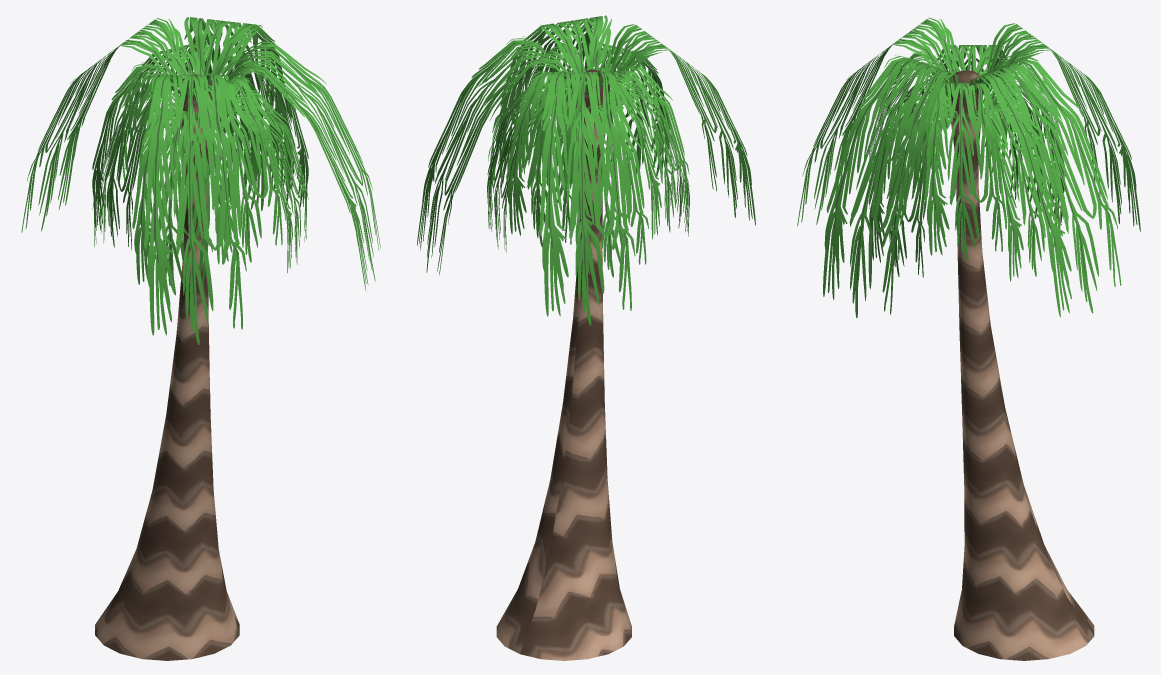
Rendered from Tree1Model.fbx.
The picture shows the model from 3 angles, left to right: view 1: azimuth 30°, elevation 25°; view 2: azimuth 150°, elevation 25°; view 3: azimuth 270°, elevation 25°; orthographic projection. The views are drawn at different scales.
Visible parts, largest first — view 1: Tree_Straight, Plane028, Plane027, Plane024, Plane025, Plane021, Plane032, Plane026, Plane031, Plane023, Plane022, Plane030 (+1 smaller); view 2: Tree_Straight, Plane025, Plane026, Plane022, Plane028, Plane021, Plane029, Plane027, Plane030, Plane024, Plane023, Plane032 (+1 smaller); view 3: Tree_Straight, Plane027, Plane026, Plane023, Plane028, Plane025, Plane030, Plane031, Plane021, Plane029, Plane024, Plane022 (+1 smaller).
Boxes of the visible parts, left/top/right/bottom form: Tree_Straight: left=95, top=74, right=239, bottom=660; Plane028: left=144, top=74, right=246, bottom=344; Plane027: left=226, top=41, right=380, bottom=291; Plane024: left=193, top=77, right=285, bottom=264; Plane025: left=21, top=18, right=185, bottom=232; Plane021: left=92, top=62, right=177, bottom=250; Plane032: left=132, top=108, right=212, bottom=295; Plane026: left=184, top=17, right=291, bottom=194; Plane031: left=219, top=89, right=308, bottom=272; Plane023: left=214, top=47, right=308, bottom=210; Plane022: left=118, top=40, right=211, bottom=186; Plane030: left=188, top=71, right=268, bottom=211; Tree_Straight: left=496, top=69, right=631, bottom=660; Plane025: left=539, top=72, right=635, bottom=325; Plane026: left=417, top=36, right=564, bottom=274; Plane022: left=506, top=71, right=587, bottom=246; Plane028: left=607, top=24, right=755, bottom=225; Plane021: left=596, top=63, right=689, bottom=239; Plane029: left=570, top=104, right=648, bottom=277; Plane027: left=492, top=15, right=611, bottom=187; Plane030: left=487, top=82, right=566, bottom=252; Plane024: left=589, top=42, right=669, bottom=177; Plane023: left=488, top=41, right=580, bottom=193; Plane032: left=608, top=76, right=689, bottom=236; Tree_Straight: left=951, top=70, right=1094, bottom=660; Plane027: left=823, top=54, right=958, bottom=317; Plane026: left=969, top=57, right=1121, bottom=317; Plane023: left=924, top=82, right=1005, bottom=261; Plane028: left=797, top=17, right=956, bottom=226; Plane025: left=985, top=23, right=1140, bottom=231; Plane030: left=966, top=99, right=1063, bottom=281; Plane031: left=868, top=94, right=958, bottom=277; Plane021: left=931, top=45, right=1007, bottom=172; Plane029: left=983, top=74, right=1064, bottom=222; Plane024: left=869, top=51, right=949, bottom=208; Plane022: left=982, top=55, right=1065, bottom=198.
Bounding box in the file's own units: 457 × 971 × 539.
2 materials, 2 textured.
